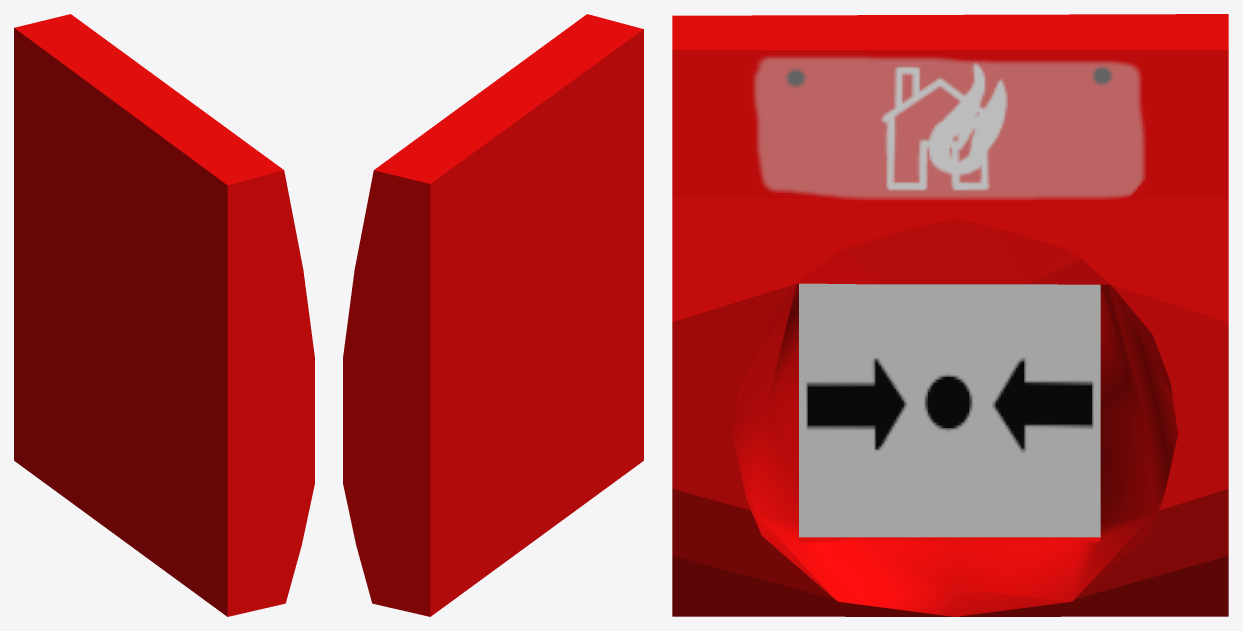
The model's file is FireAlarmButton.fbx.
3 renders of one model, left to right at view 1: azimuth 30°, elevation 25°; view 2: azimuth 150°, elevation 25°; view 3: azimuth 270°, elevation 25°, orthographic. The views are drawn at different scales.
Visible parts, largest first — view 1: FireAlarmRed; view 2: FireAlarmRed; view 3: FireAlarmRed.
Boxes of the visible parts, <box> form: FireAlarmRed: <box>14,14,314,616</box>; FireAlarmRed: <box>343,14,643,616</box>; FireAlarmRed: <box>672,14,1228,616</box>.
Bounding box in the file's own units: 1.16 × 5.12 × 4.56.
